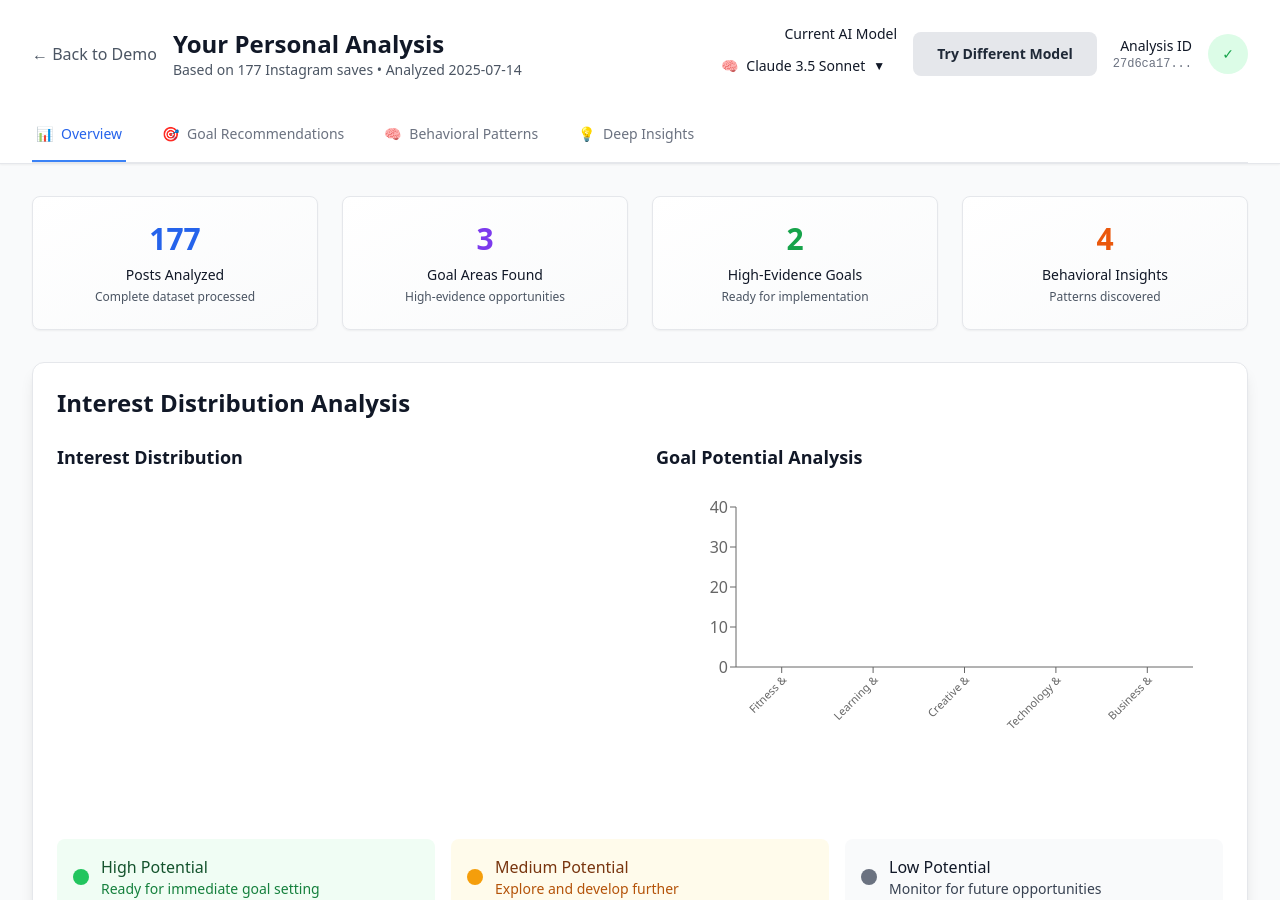
Scenario: AnalysisDashboard › shows insights tab content correctly
// Switch to insights tab
Click the text "Deep Insights" at (649, 134), box [603,124,694,144]
(page scrolled)
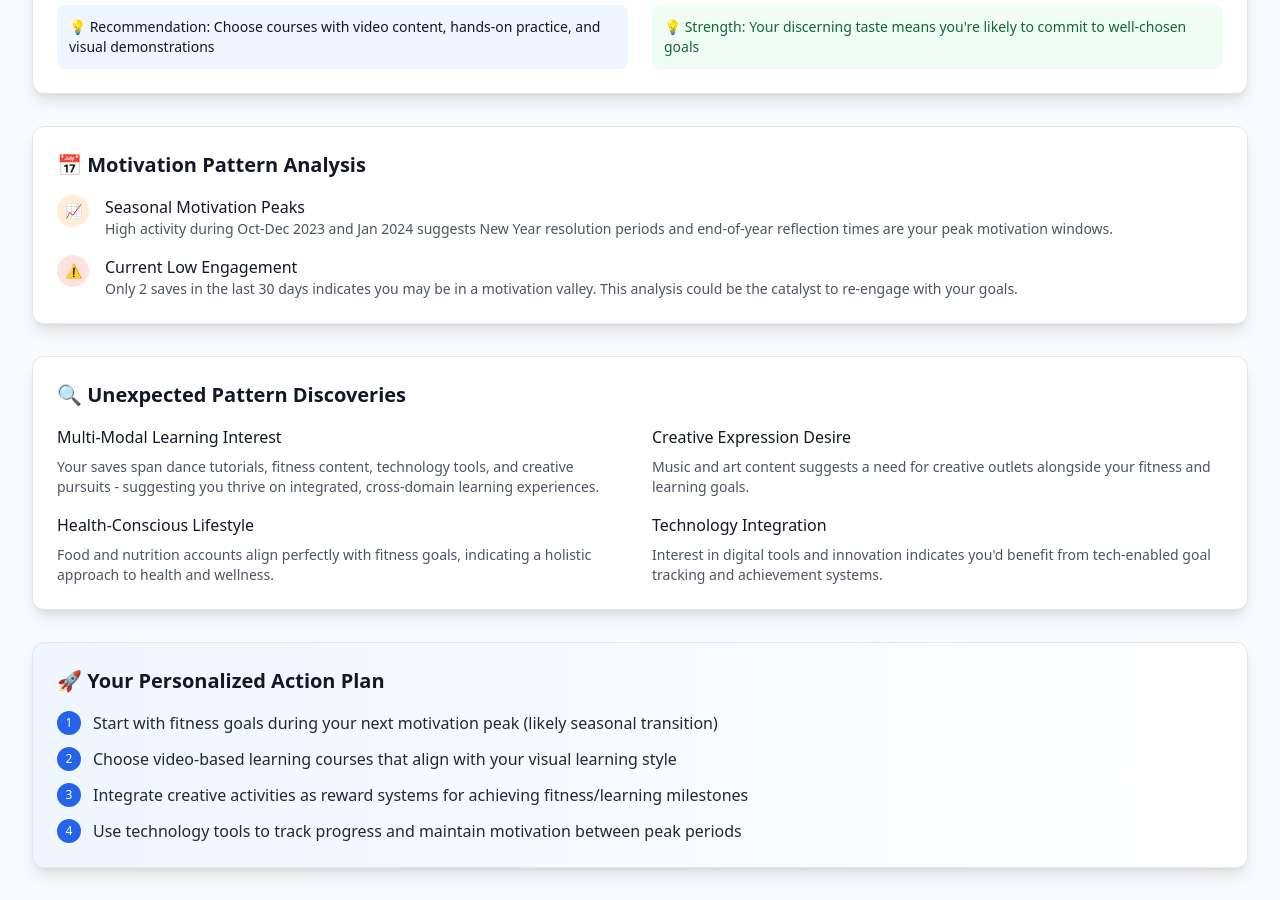
Check: the heading "📅 Motivation Pattern Analysis" is shown, box [57,151,366,178]
Check: the heading "🔍 Unexpected Pattern Discoveries" is shown, box [57,381,406,408]
Check: the heading "🚀 Your Personalized Action Plan" is shown, box [57,667,385,694]
